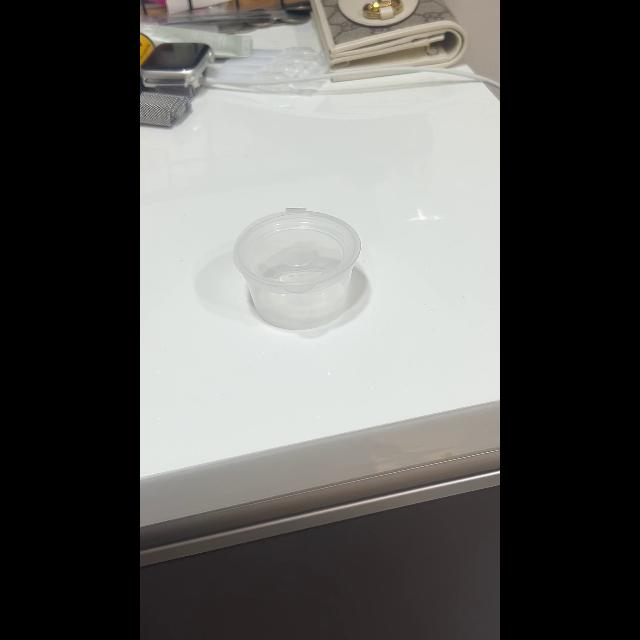clean: (232, 206, 362, 330)
